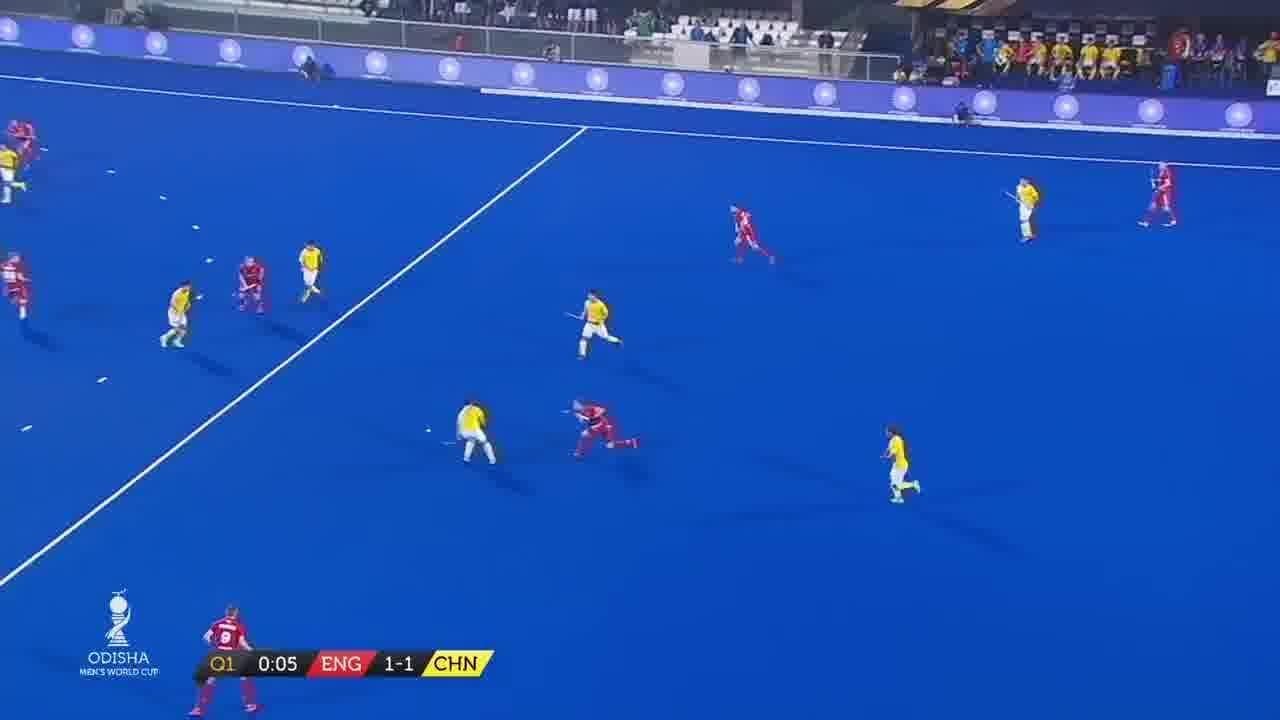ball: (420, 418, 436, 442)
